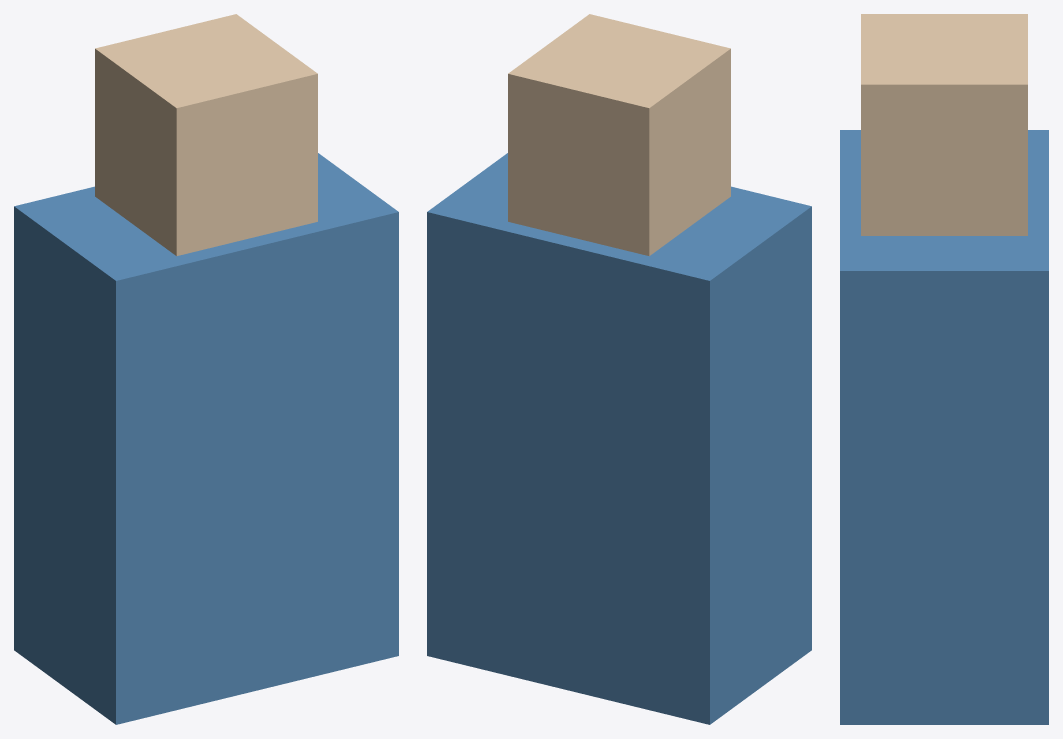
File: undergrad.gltf
The picture shows the model from 3 angles, left to right: view 1: azimuth 30°, elevation 25°; view 2: azimuth 150°, elevation 25°; view 3: azimuth 270°, elevation 25°; orthographic projection. The views are drawn at different scales.
Visible parts, largest first — view 1: Body, Head; view 2: Body, Head; view 3: Body, Head.
Boxes of the visible parts, bbox=[...] form: Body: bbox=[14, 153, 398, 724]; Head: bbox=[95, 14, 317, 256]; Body: bbox=[427, 153, 811, 724]; Head: bbox=[508, 14, 730, 256]; Body: bbox=[840, 130, 1048, 724]; Head: bbox=[861, 14, 1027, 235].
Size of the model in its own units: 0.4 by 0.8 by 0.25.
